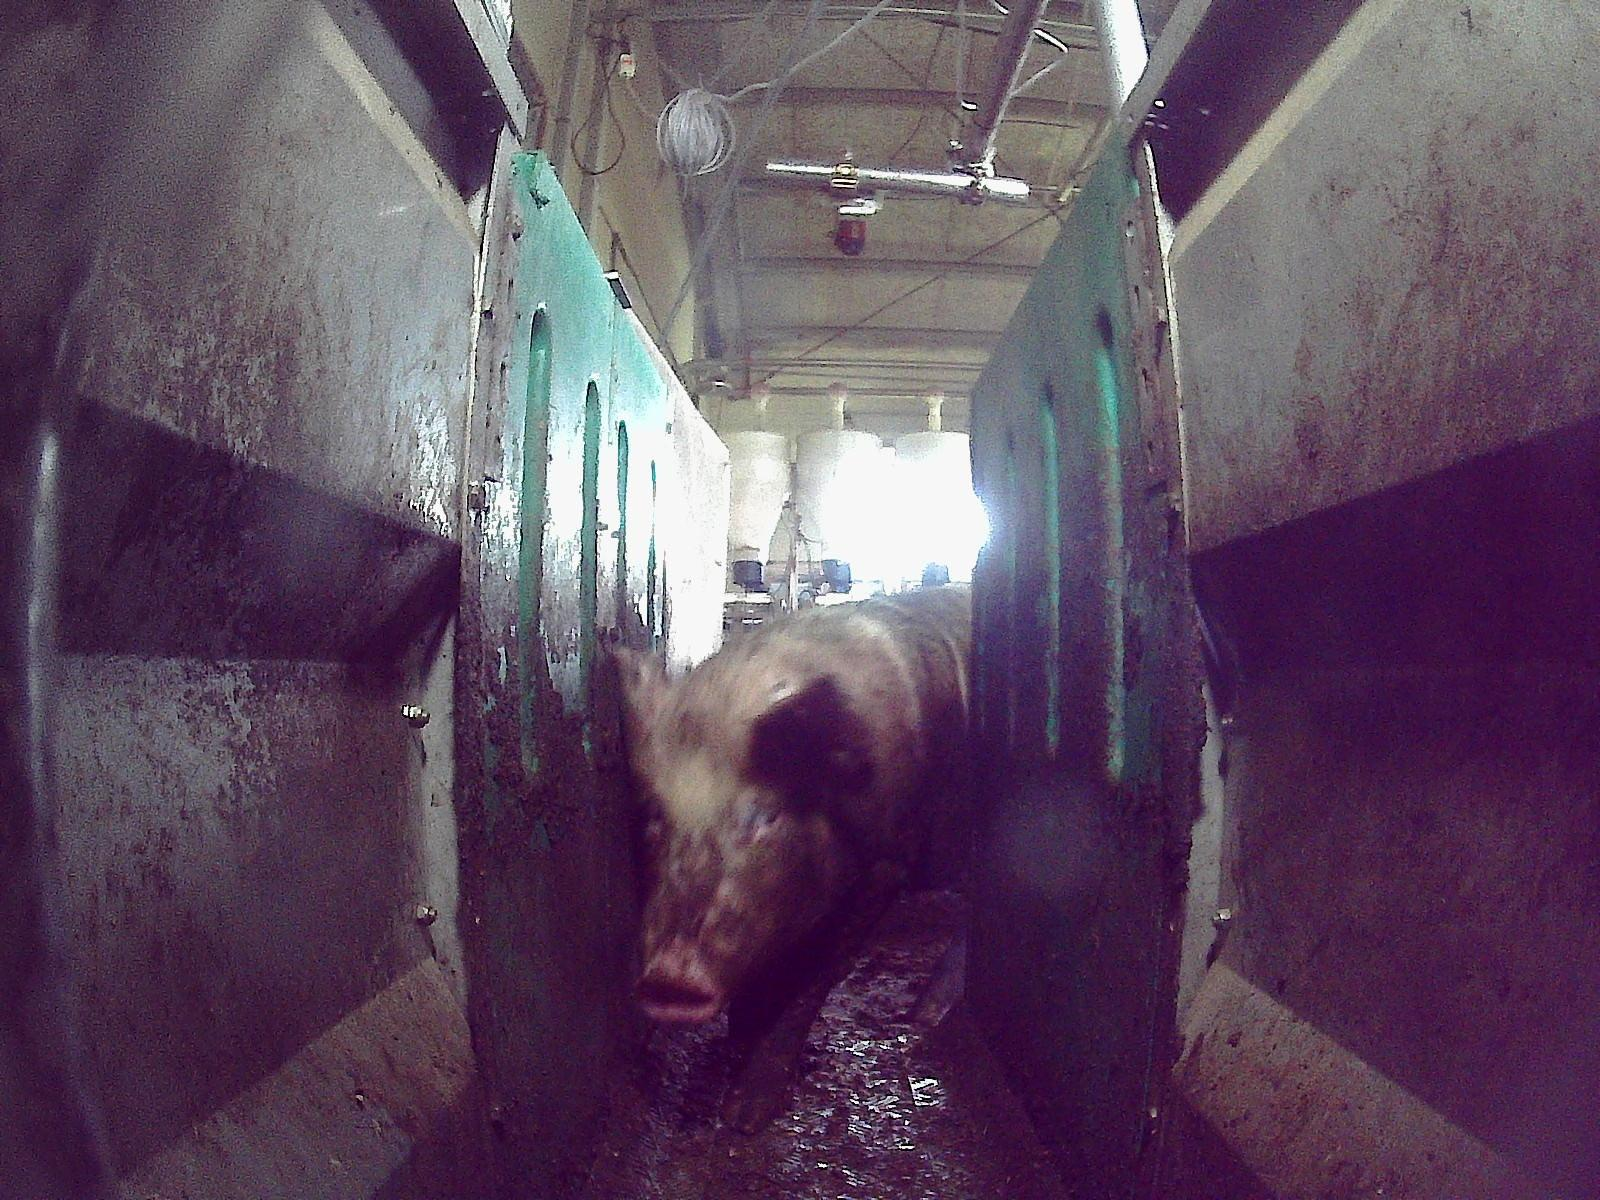Face: (621, 735, 816, 1023)
